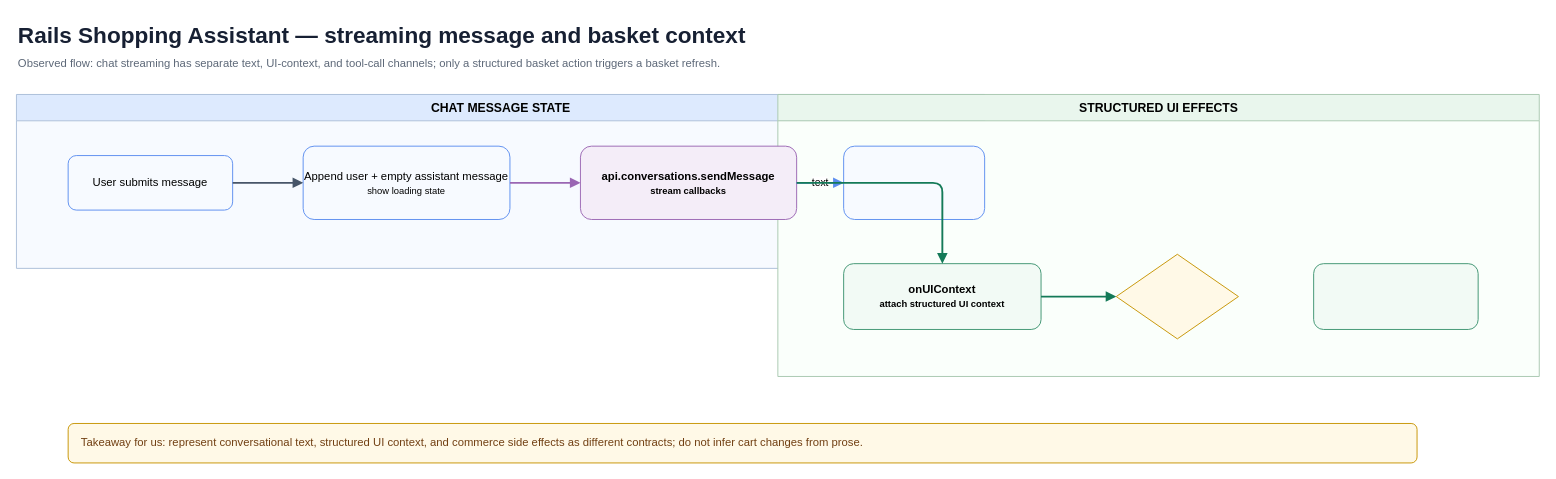
Some shapes in this 1556 by 479 pixel diagram are drawn without their labels. The shapes that lost their labels are listed below. From the top down, each one's centre as x and y in pixels, then its label:
At point 914,182: "onContent append streamed text".
At point 1176,296: "SHOW_BASKET? then onBasketUpdate()".
At point 1395,296: "onToolCall attach tool descriptor".
